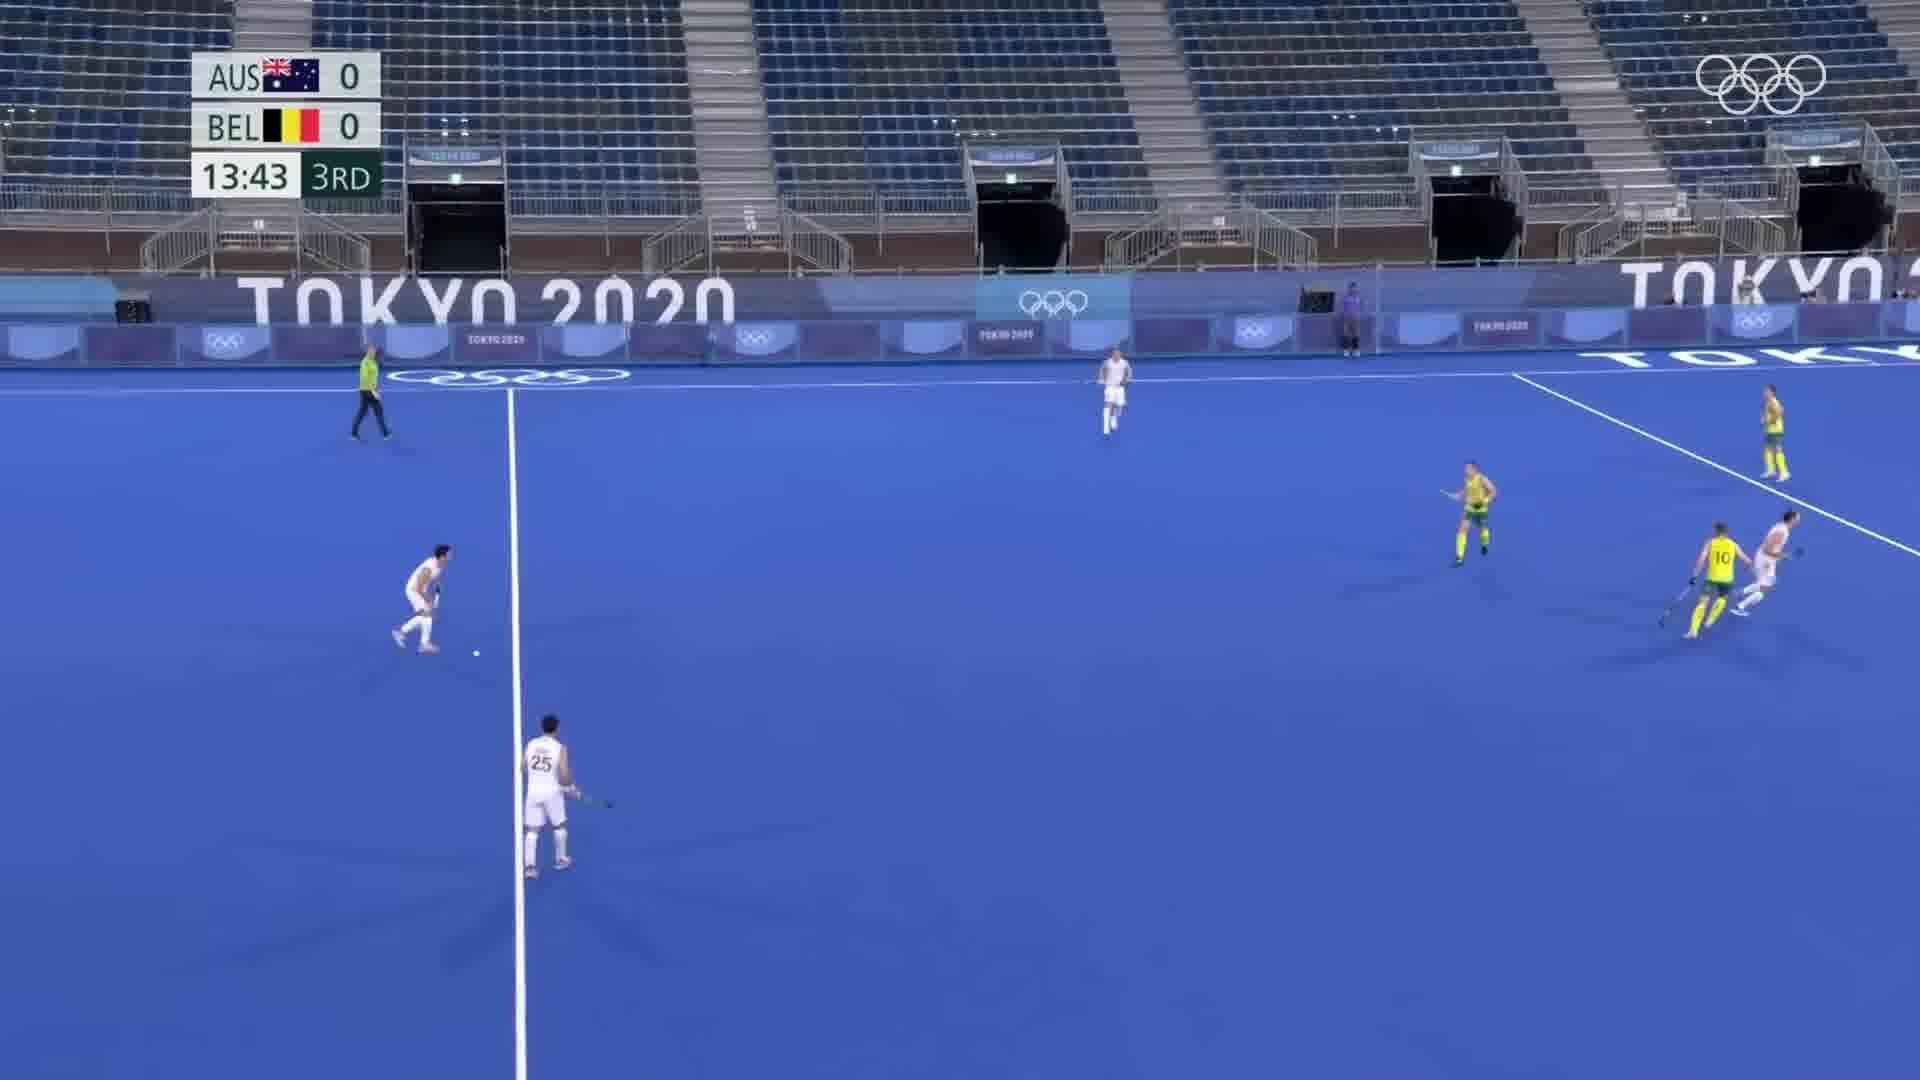ball: (467, 644, 492, 661)
